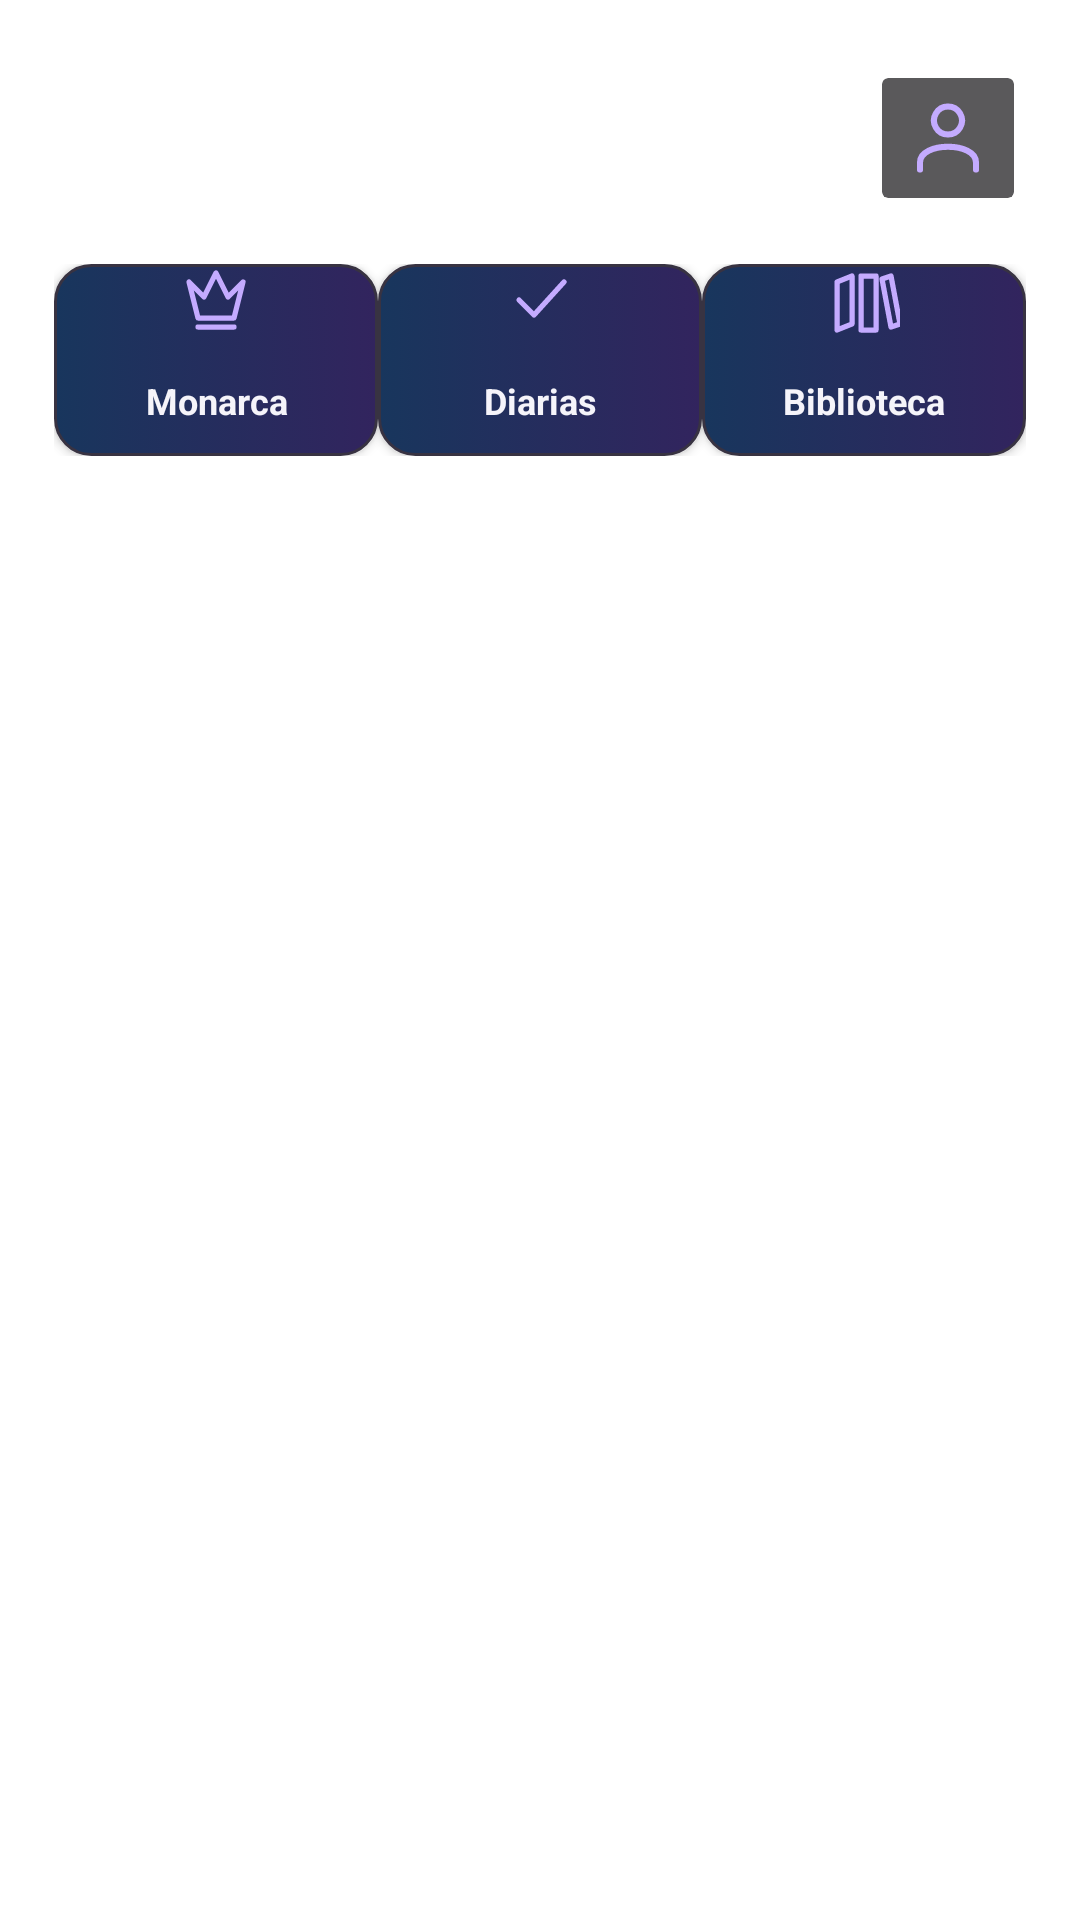

Locate icon controls on the screen. Image size 1080 x 1920, boxes as (x1, y1, x2, y2).
Abrir perfil y configuración: (882, 78, 1014, 198)
